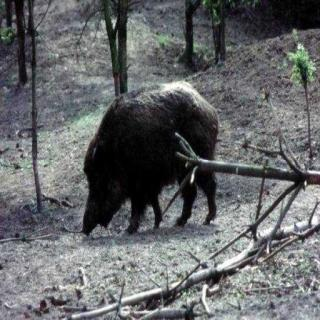Pig: (62, 66, 244, 245)
